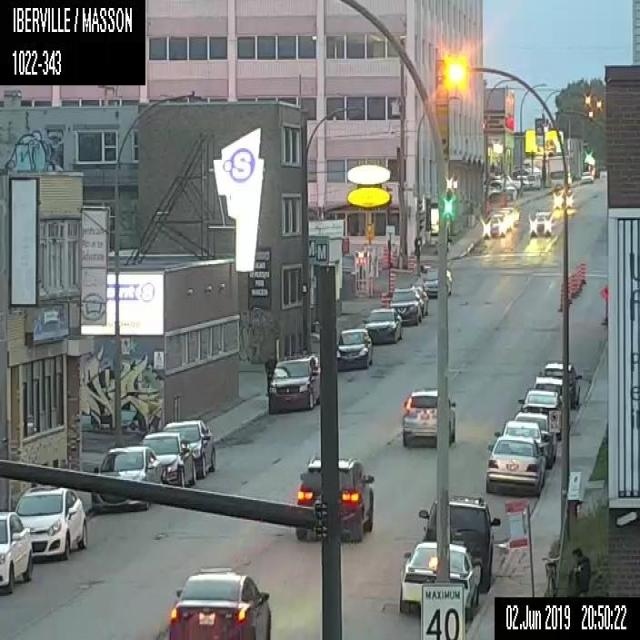construction: (600, 285, 608, 324), (390, 244, 398, 268), (387, 270, 395, 291), (406, 251, 414, 269), (559, 277, 563, 312), (381, 246, 388, 266), (580, 257, 585, 284), (575, 264, 580, 291), (570, 271, 575, 298), (566, 275, 570, 301), (381, 293, 388, 303)
pedestrian: (570, 545, 591, 596), (266, 352, 276, 395)
vehicle: (416, 490, 499, 592), (167, 565, 270, 639), (296, 454, 374, 542), (0, 484, 86, 558), (398, 540, 479, 616), (89, 443, 165, 511), (485, 432, 546, 496), (140, 427, 196, 489), (265, 352, 320, 415), (164, 417, 217, 482), (401, 388, 456, 448), (513, 408, 557, 469), (517, 386, 562, 441), (539, 360, 581, 410), (335, 324, 373, 371), (362, 306, 402, 344), (532, 375, 566, 412), (17, 514, 35, 582), (388, 287, 422, 323), (495, 418, 544, 442), (547, 153, 571, 189), (421, 269, 452, 296), (527, 210, 553, 238), (481, 210, 506, 238), (410, 284, 428, 316), (550, 187, 574, 208), (499, 208, 514, 230), (504, 205, 519, 221), (580, 169, 594, 183)
